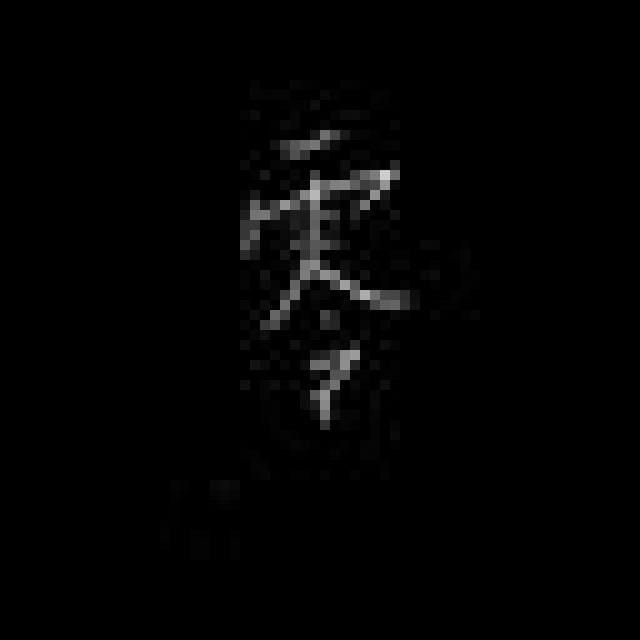0 -zero-: (224, 114, 422, 444)
